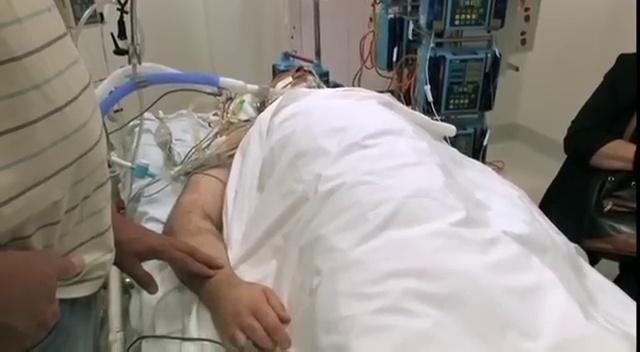others: (0, 0, 226, 351), (528, 40, 637, 210)
patient: (158, 63, 636, 351)
